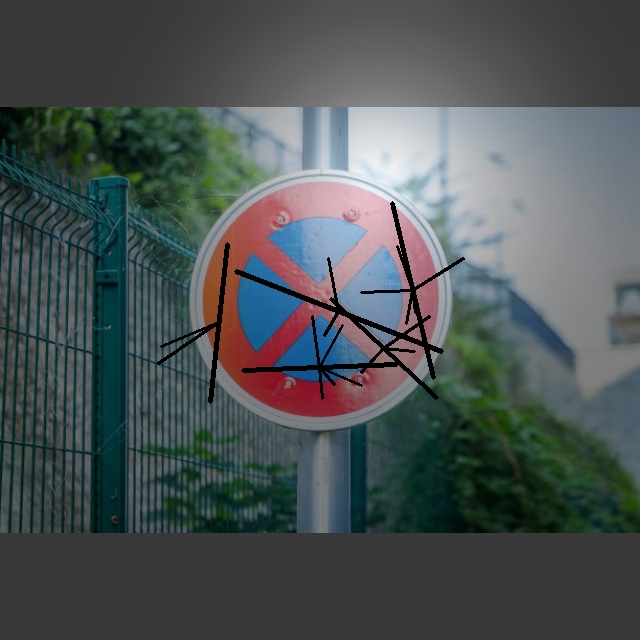No_Stopping_or_Standing: (195, 187, 453, 418)
